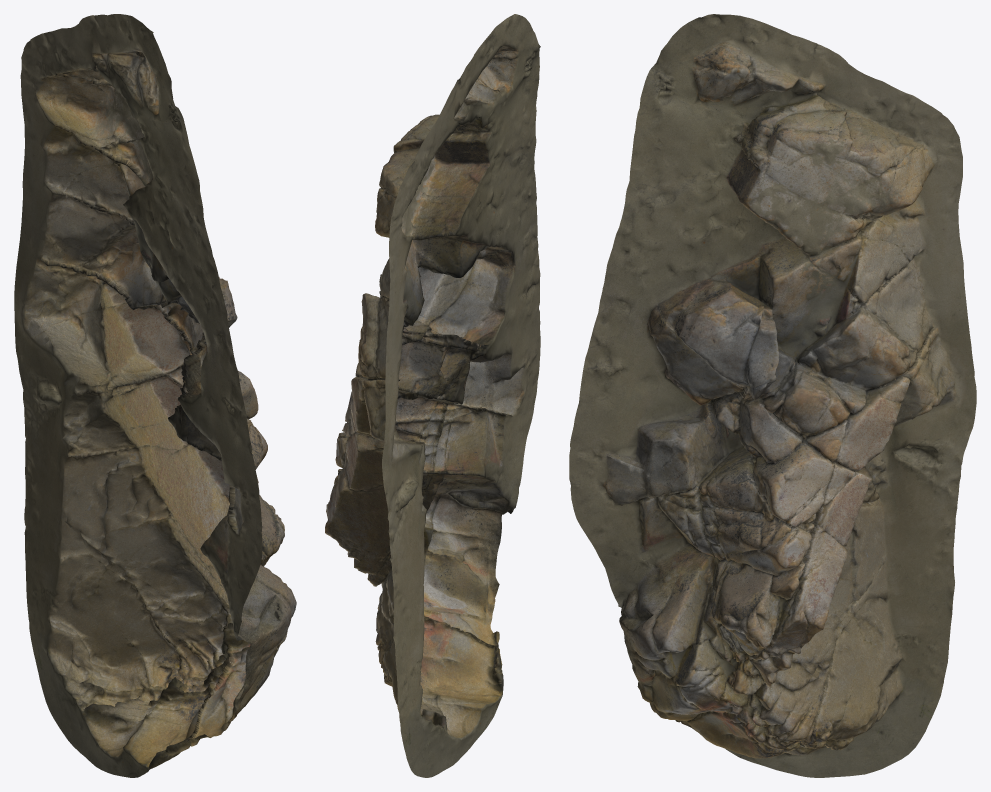
Rendered from beach rock.fbx.
3 renders of one model, left to right at view 1: azimuth 30°, elevation 25°; view 2: azimuth 150°, elevation 25°; view 3: azimuth 270°, elevation 25°, orthographic. The views are drawn at different scales.
Parts seen in each view (by area): view 1: RockBeachLarge010_LOD1.001; view 2: RockBeachLarge010_LOD1.001; view 3: RockBeachLarge010_LOD1.001.
Boxes of the visible parts, x1,y1,x2,y2 form: RockBeachLarge010_LOD1.001: (14,14,296,777); RockBeachLarge010_LOD1.001: (325,14,540,777); RockBeachLarge010_LOD1.001: (569,14,976,777).
Size of the model in its own units: 157 by 731 by 355.
Materials: 1 (1 with a texture image).
